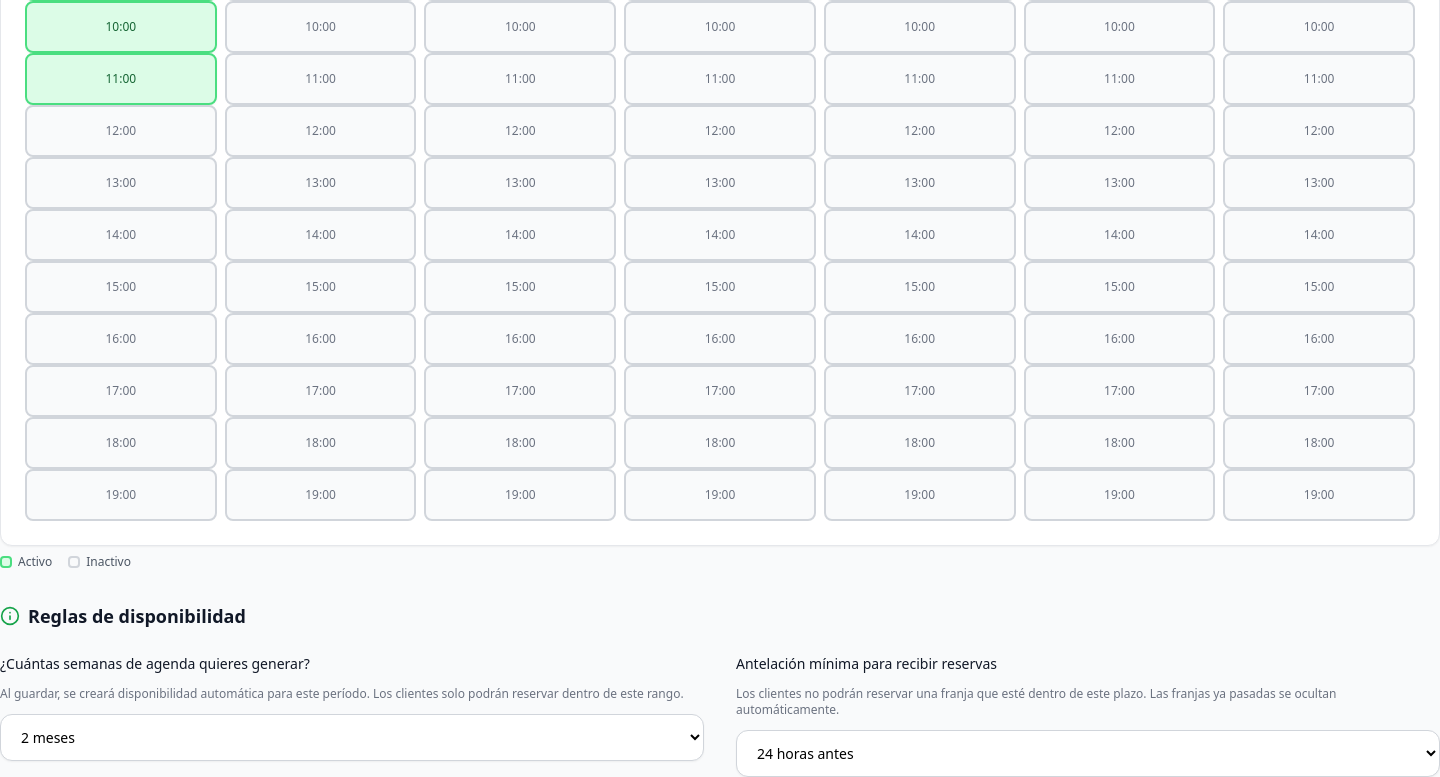
Test: RecurringScheduleManager — sin valores preconfigurados › QA-043 · con un horario ya guardado, cambiar SOLO la antelación no borra la agenda y el aviso lo dice
(page scrolled)
Expected: the 1st dropdown shows "2 meses", 0,714 -> 704,761
Select "48 horas antes" in the dropdown below "Antelación mínima para recibir reservas" at (1088, 754), box 736,730 -> 1439,776
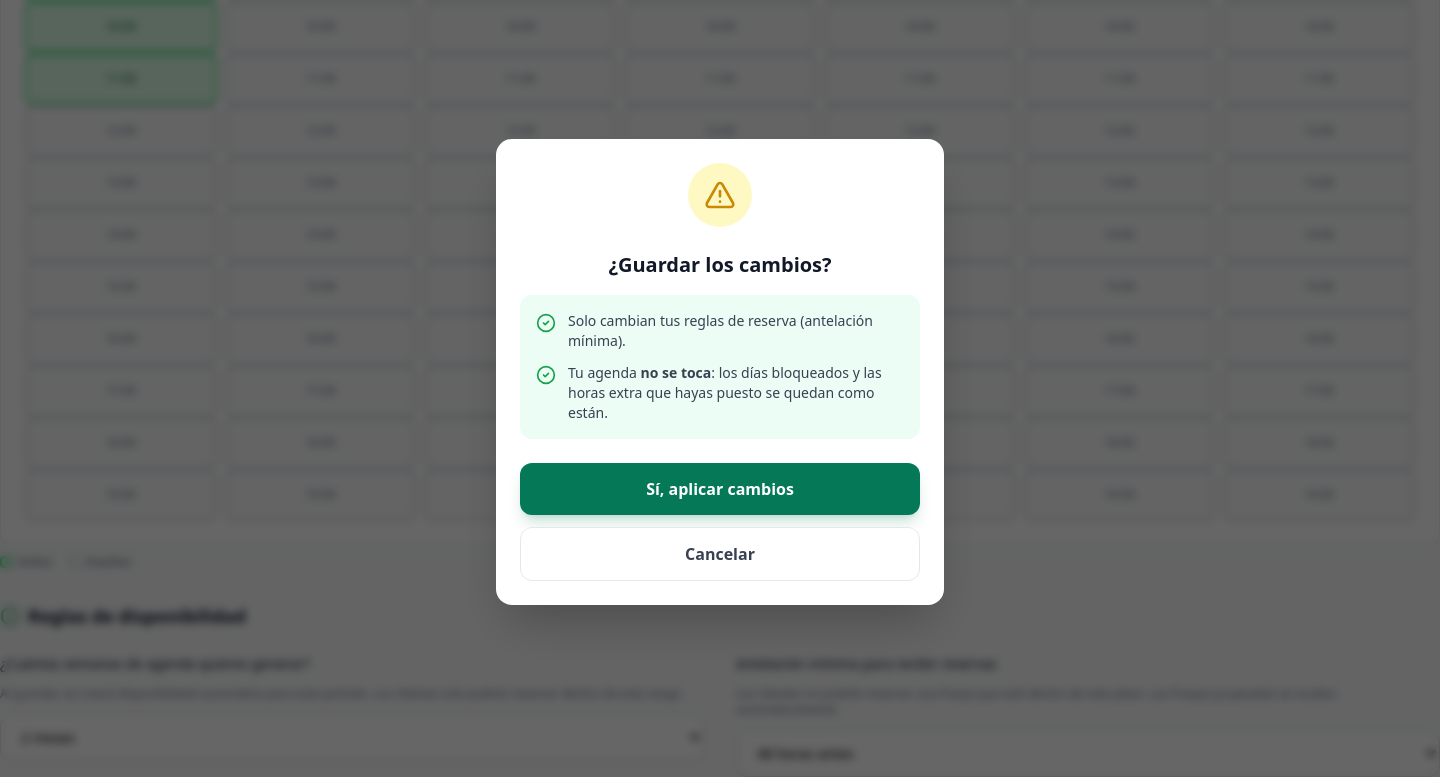
Now the heading "¿Guardar los cambios?" is shown, box 608,251 -> 832,279
Now the text "no se toca" is shown, box 640,363 -> 711,382
